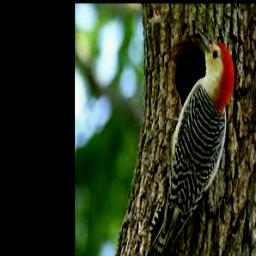Woodpecker: (141, 31, 235, 256)
